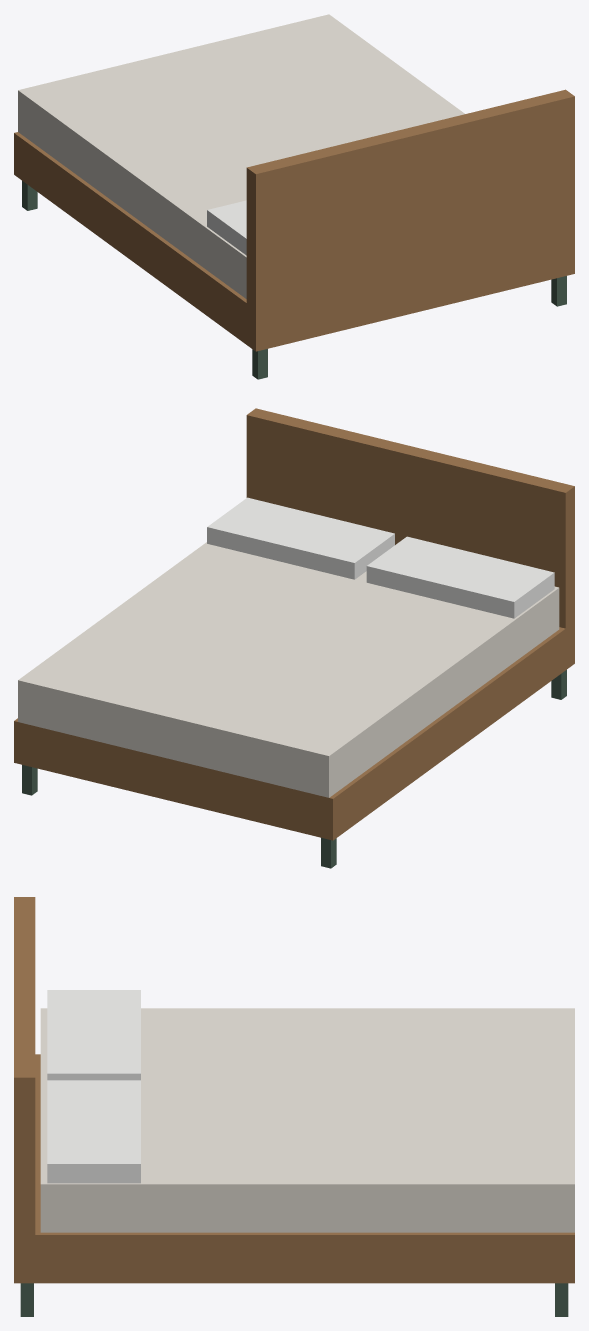
3 renders of one model, top to bottom at view 1: azimuth 30°, elevation 25°; view 2: azimuth 150°, elevation 25°; view 3: azimuth 270°, elevation 25°, orthographic. The views are drawn at different scales.
Parts seen in each view (by area): view 1: headboard, mattress, frame, pillow-0; view 2: mattress, headboard, frame, pillow-0, pillow-1; view 3: mattress, frame, pillow-1, pillow-0, headboard.
Part boxes in pixels (x1,y1,x2,y2): headboard: (246,89,574,350); mattress: (18,14,464,298); frame: (14,132,574,351); pillow-0: (207,200,246,255); mattress: (18,542,559,797); headboard: (246,408,574,662); frame: (14,622,574,840); pillow-0: (366,536,554,618); pillow-1: (207,497,394,579); mattress: (40,1008,574,1232); frame: (14,1054,574,1283); pillow-1: (47,1080,140,1183); pillow-0: (47,990,140,1080); headboard: (14,897,35,1283).
Bounding box in the file's own units: 1.6 × 1 × 2.1.
